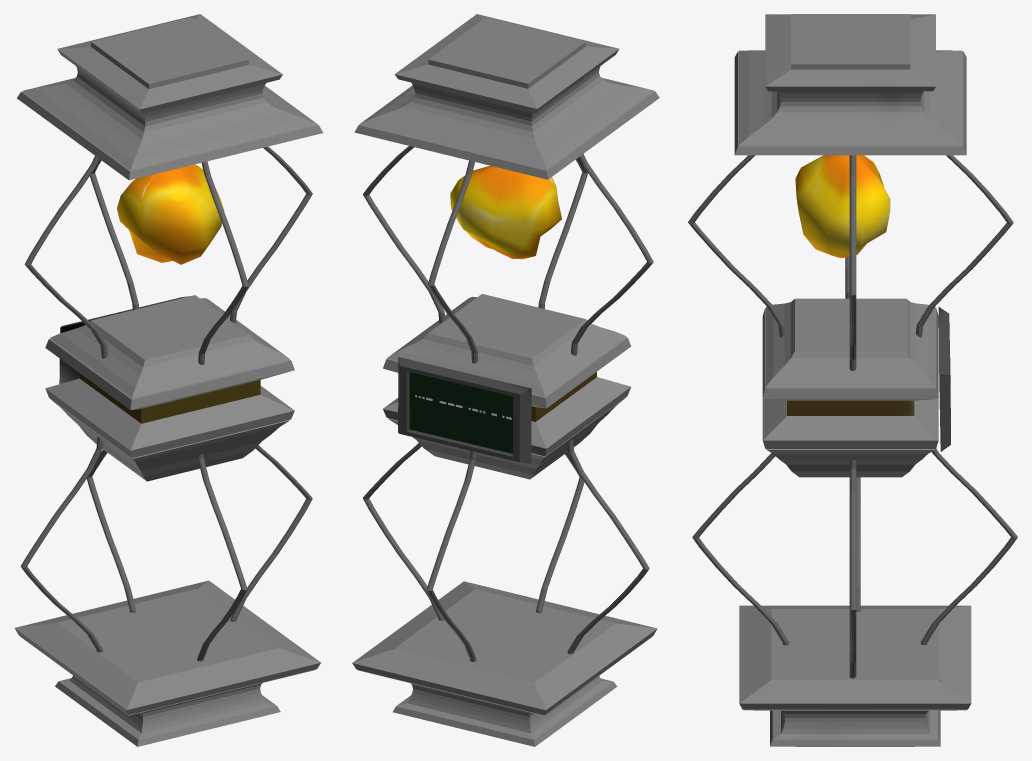
The model's file is máquina do tempo.fbx.
3 views of the same model, side by side, from view 1: azimuth 30°, elevation 25°; view 2: azimuth 150°, elevation 25°; view 3: azimuth 270°, elevation 25° (orthographic). The views are drawn at different scales.
Visible parts, largest first — view 1: Plane, Sphere; view 2: Plane, Sphere; view 3: Plane, Sphere.
Boxes of the visible parts, <box> form: Plane: <box>14,14,323,746</box>; Sphere: <box>117,164,224,264</box>; Plane: <box>352,14,659,746</box>; Sphere: <box>450,165,561,259</box>; Plane: <box>688,14,1017,746</box>; Sphere: <box>795,155,890,258</box>.
Bounding box in the file's own units: 59.48 × 130 × 56.89.
